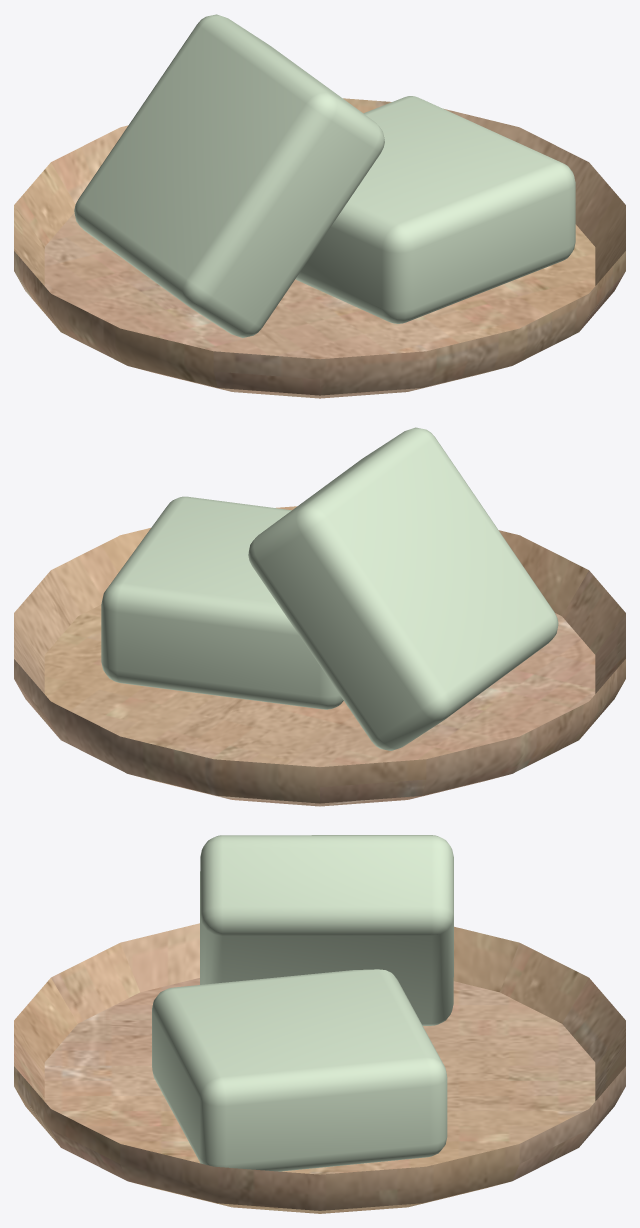
The model's file is Soap 2.FBX.
3 views of the same model, one above another, from view 1: azimuth 30°, elevation 25°; view 2: azimuth 150°, elevation 25°; view 3: azimuth 270°, elevation 25° (orthographic).
Parts seen in each view (by area): view 1: Soap 2; view 2: Soap 2; view 3: Soap 2.
Boxes of the visible parts, x1,y1,x2,y2 form: Soap 2: (14, 14, 625, 398); Soap 2: (14, 427, 625, 806); Soap 2: (14, 835, 625, 1213).
Bounding box in the file's own units: 10.21 × 4.73 × 10.05.
1 material, 1 textured.
